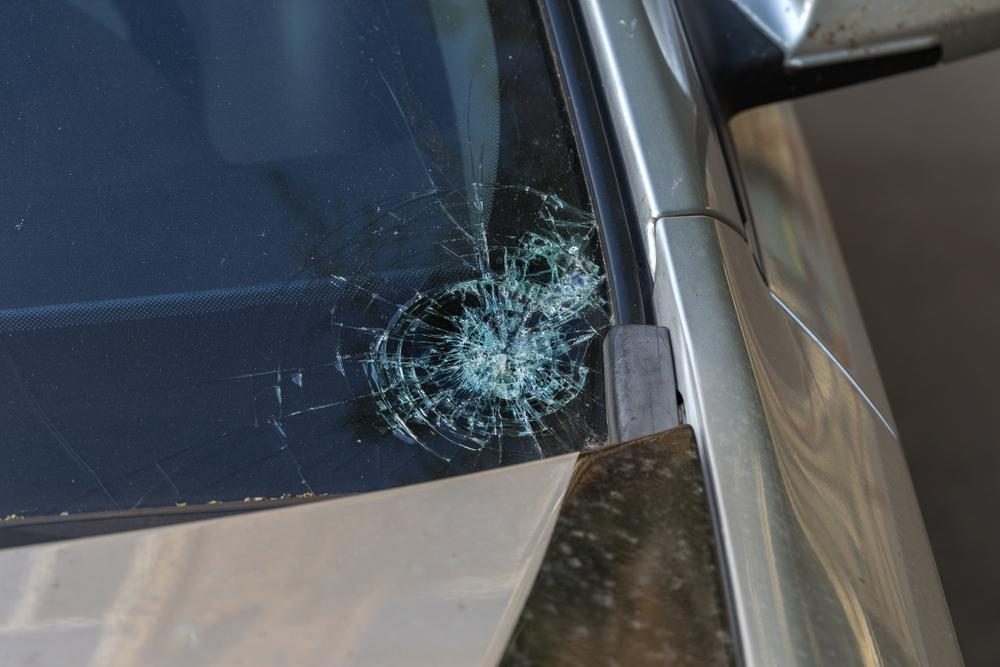glass shatter: (0, 0, 612, 521)
